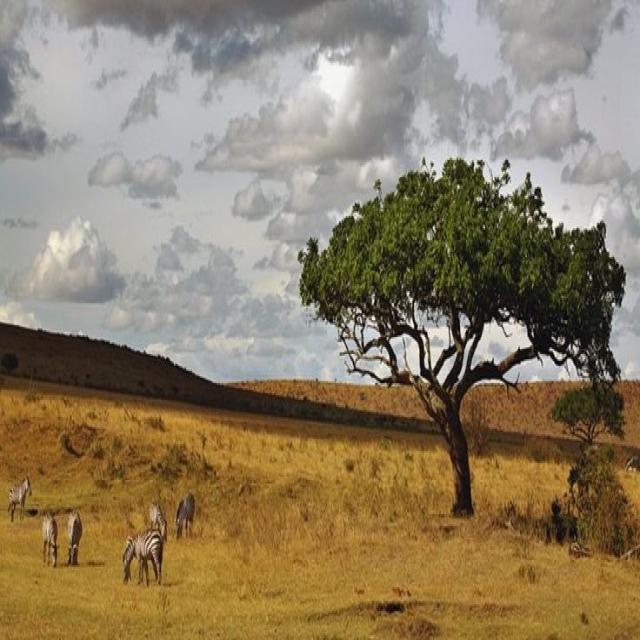Acacia: (293, 178, 610, 499)
